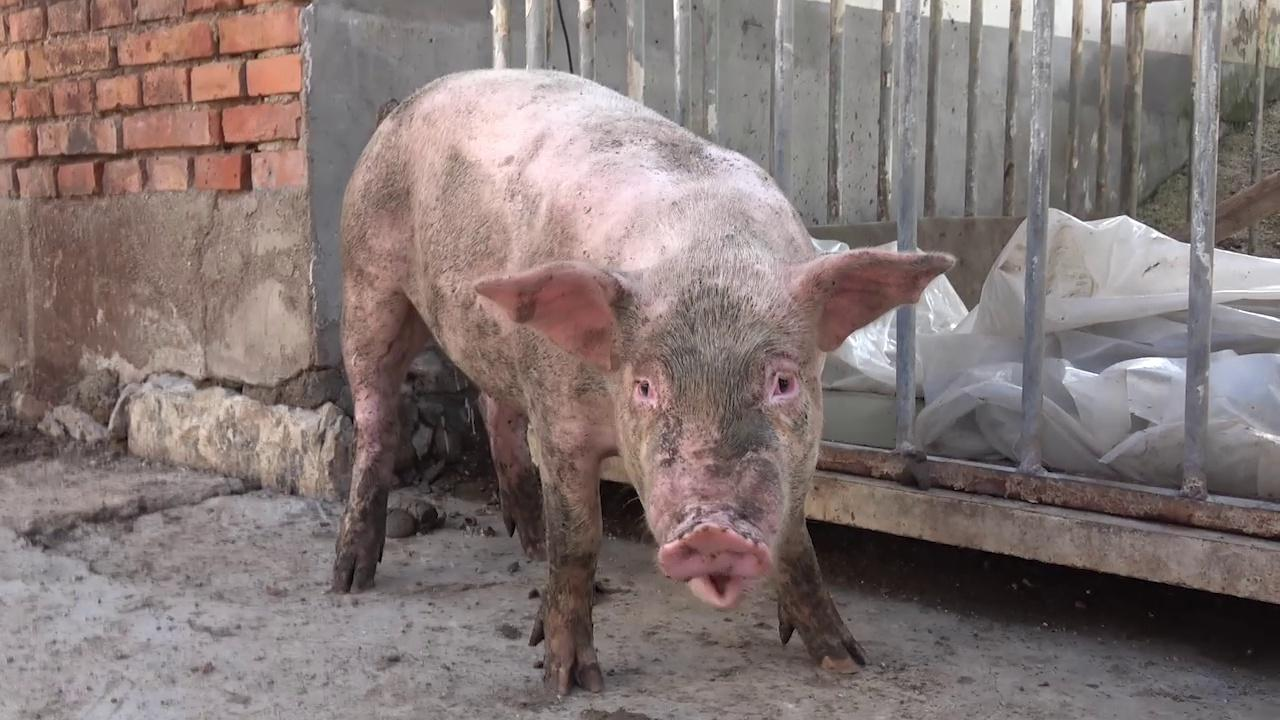Face: (459, 236, 963, 628)
